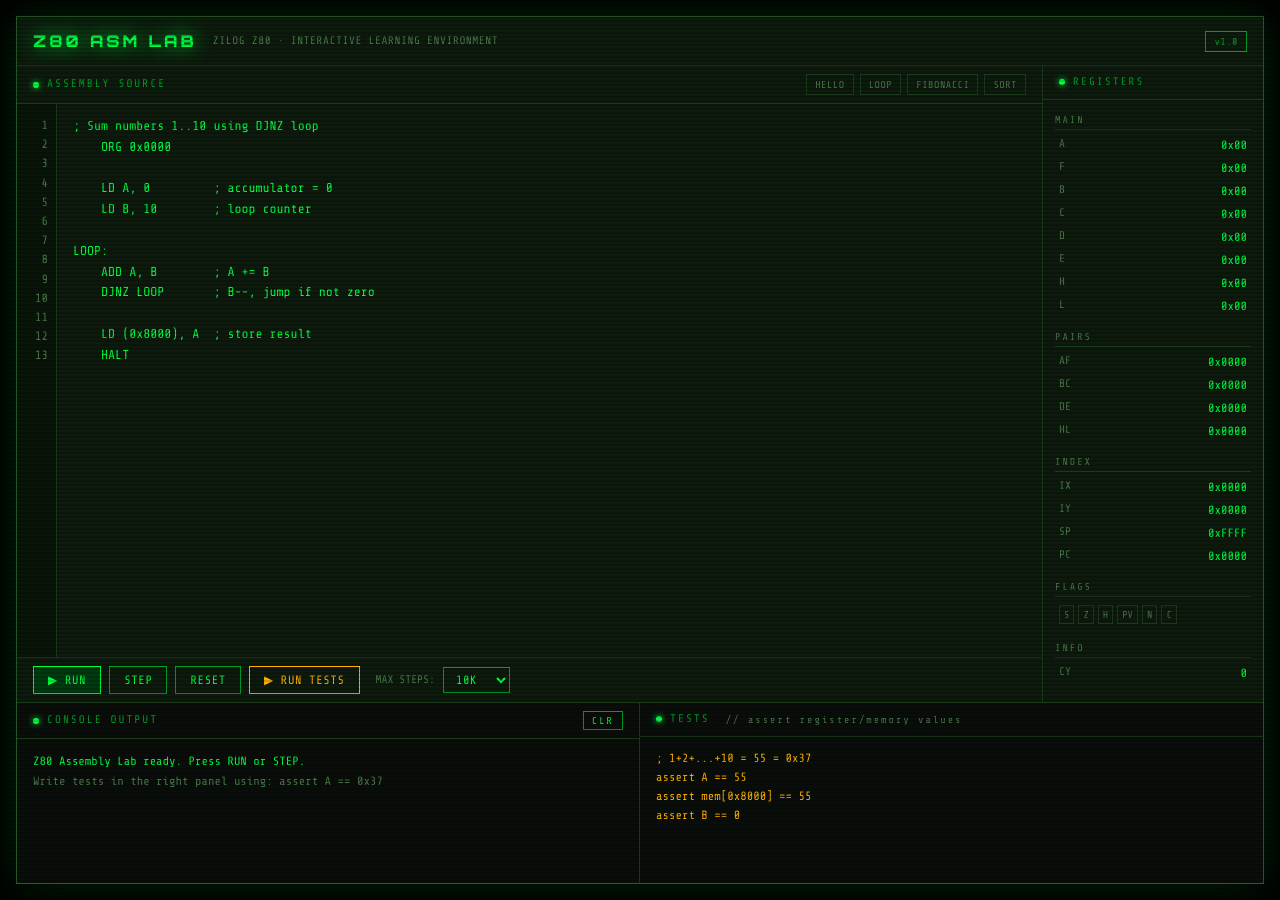
Test: App - RUN TESTS button › clicking RUN TESTS shows PASS results for loop example
This screenshot has width=1280, height=900.
Click the button "▶ RUN TESTS": (304, 680) [249,666,360,694]
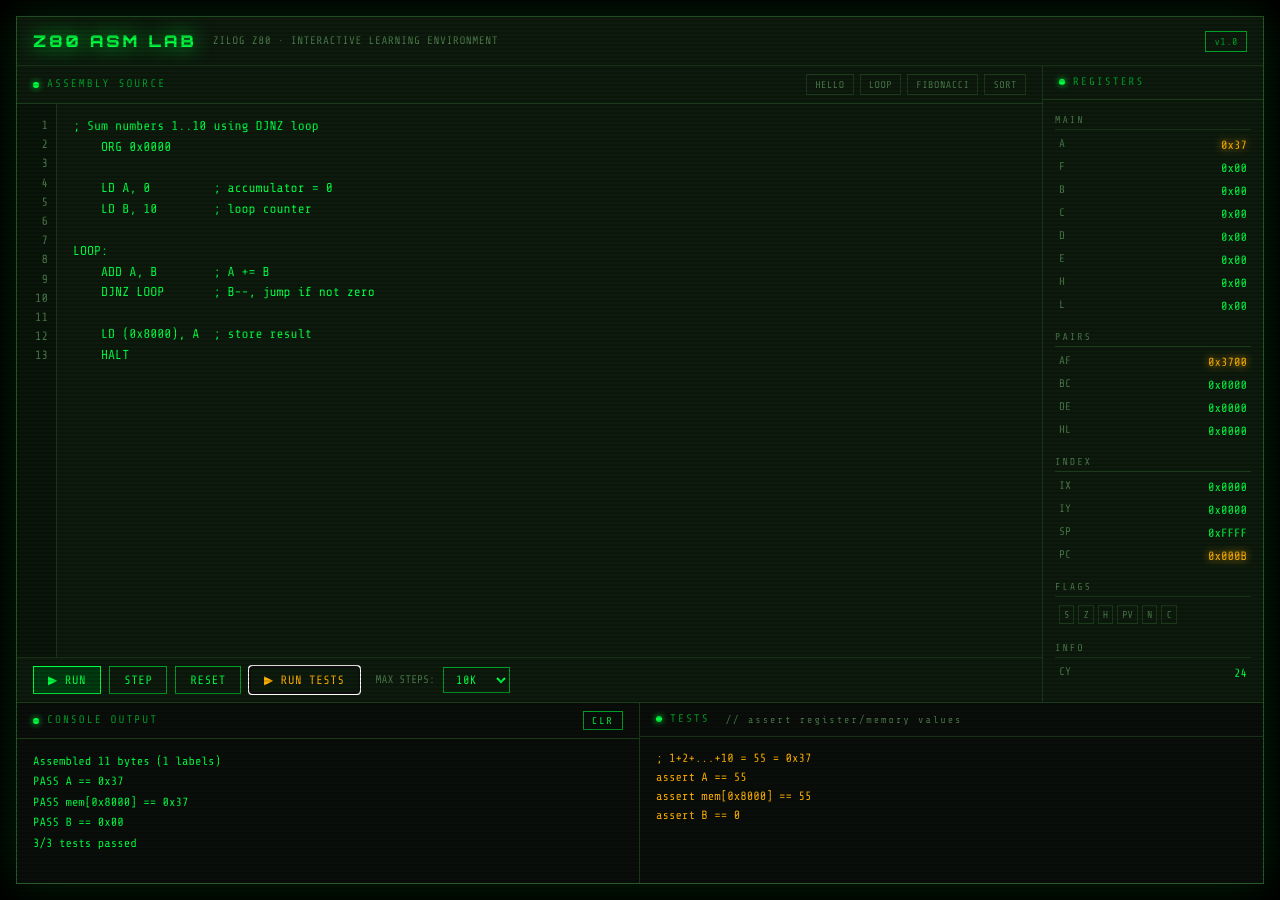
Expected: the text "3/3 tests passed" is shown, [33,836,137,850]
